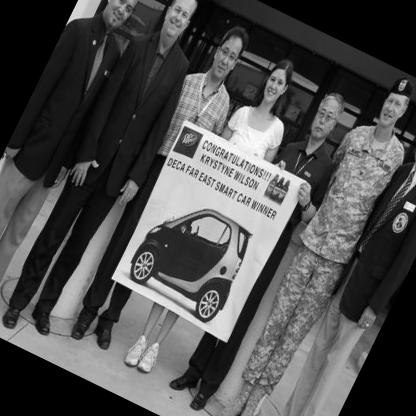car: (117, 182, 277, 338)
